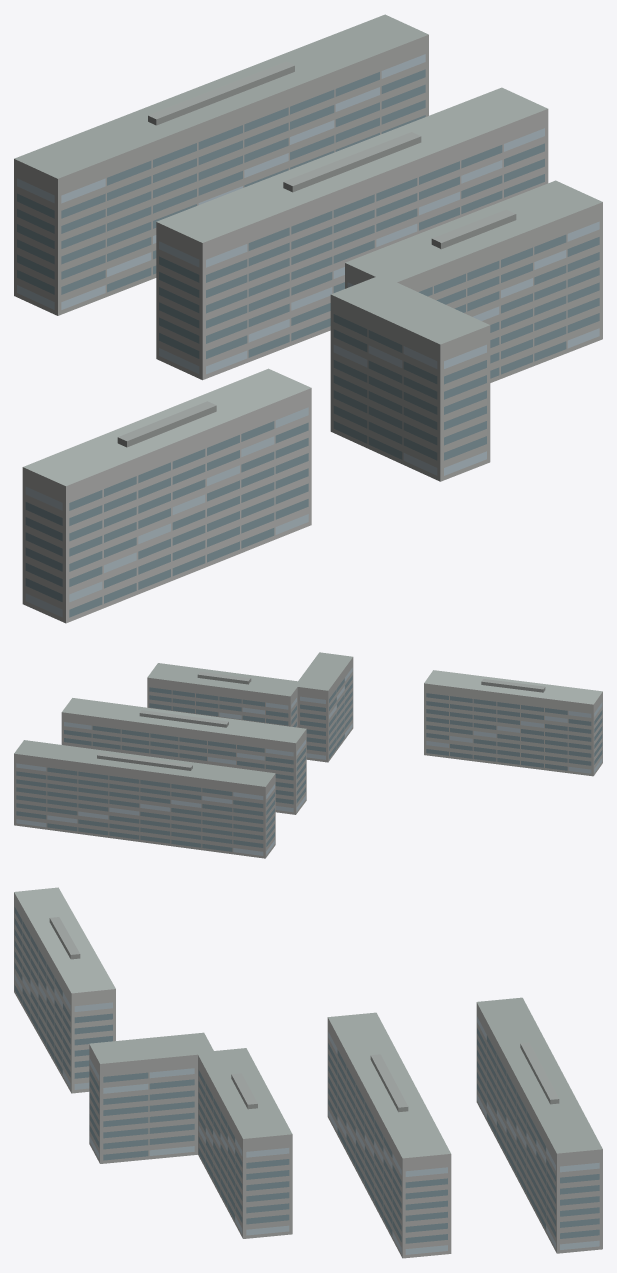
File: apt-a13580002.glb
The picture shows the model from 3 angles, top to bottom: view 1: azimuth 30°, elevation 25°; view 2: azimuth 150°, elevation 25°; view 3: azimuth 270°, elevation 25°; orthographic projection. The views are drawn at different scales.
Visible parts, largest first — view 1: apt-a13580002; view 2: apt-a13580002; view 3: apt-a13580002.
Boxes of the visible parts, x1,y1,x2,y2 form: apt-a13580002: [14, 14, 602, 623]; apt-a13580002: [14, 652, 602, 858]; apt-a13580002: [14, 887, 602, 1258].
Size of the model in its own units: 159 by 28.69 by 146.
